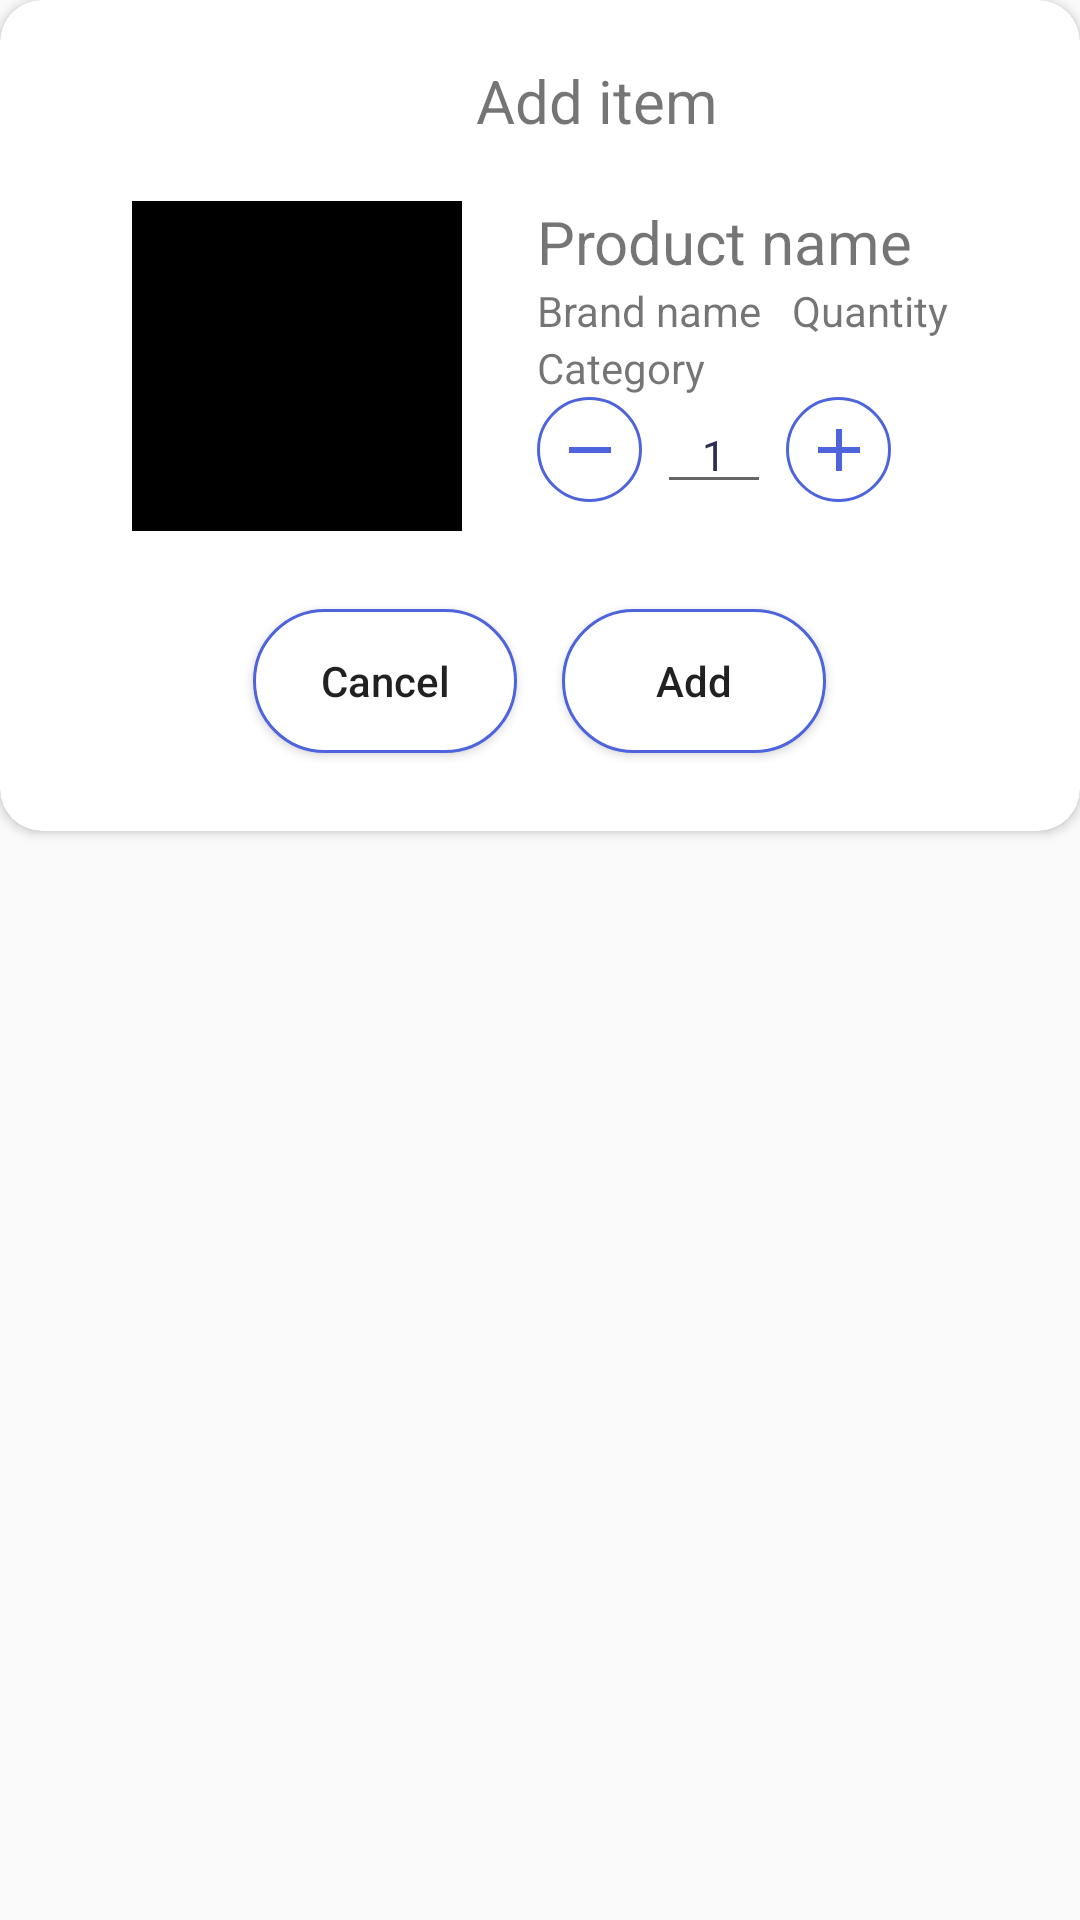

Icons on this 1080px x 1920px Android screen, each with its box as (x1, y1, x2, y2):
decrease: (537, 397, 642, 502)
